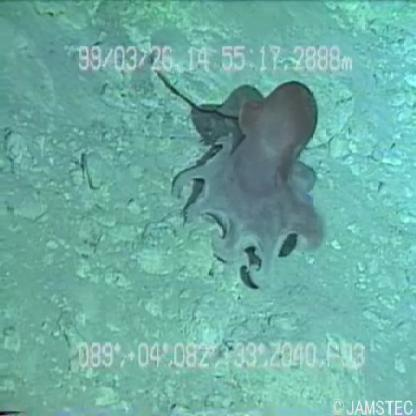Bio: (169, 74, 328, 292)
